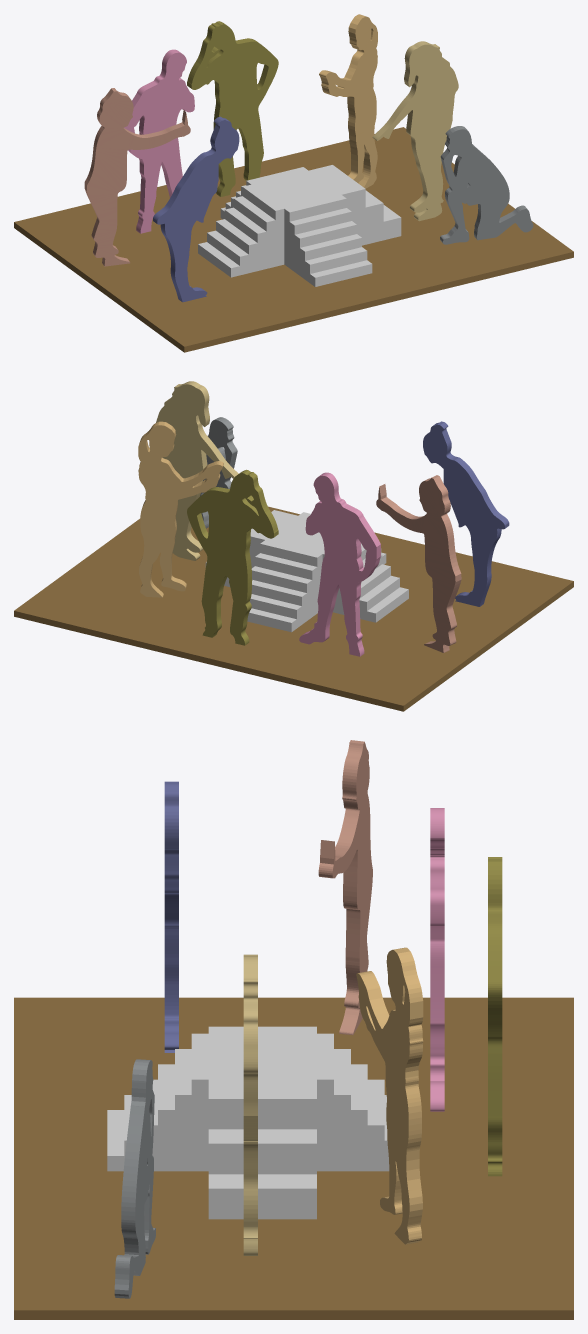
File: Stairs AR - CMK18 Project.glb
3 views of the same model, one above another, from view 1: azimuth 30°, elevation 25°; view 2: azimuth 150°, elevation 25°; view 3: azimuth 270°, elevation 25° (orthographic). The views are drawn at different scales.
Visible parts, largest first — view 1: Mesh_Mesh_head_geo.001_lambert2SG.001; view 2: Mesh_Mesh_head_geo.001_lambert2SG.001; view 3: Mesh_Mesh_head_geo.001_lambert2SG.001.
Boxes of the visible parts, x1,y1,x2,y2 form: Mesh_Mesh_head_geo.001_lambert2SG.001: (14, 14, 573, 352); Mesh_Mesh_head_geo.001_lambert2SG.001: (14, 381, 573, 711); Mesh_Mesh_head_geo.001_lambert2SG.001: (14, 740, 573, 1319).
Size of the model in its own units: 103 by 45.75 by 78.
